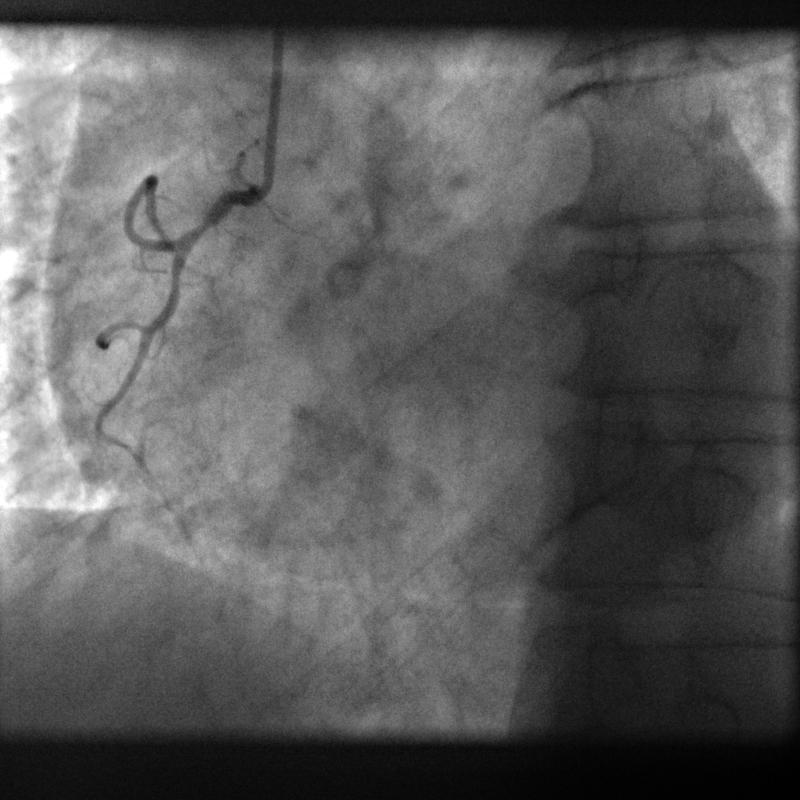Stenosis: (180, 198, 215, 246)
